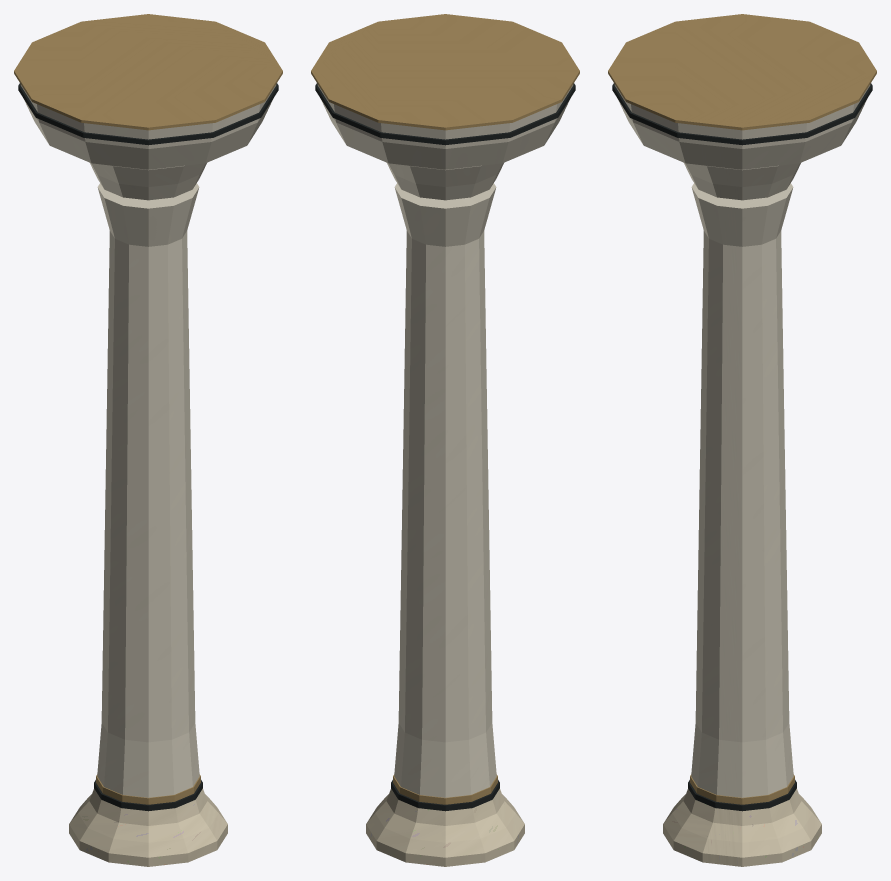
File: AST-STR-001-H826.glb
3 renders of one model, left to right at view 1: azimuth 30°, elevation 25°; view 2: azimuth 150°, elevation 25°; view 3: azimuth 270°, elevation 25°, orthographic.
Visible parts, largest first — view 1: STR_TaperedShaft, STR_CeilingBearing, STR_Capital, STR_StoneFoot, STR_CapitalShadow, STR_LowerMetalBand, STR_BaseReveal; view 2: STR_TaperedShaft, STR_CeilingBearing, STR_Capital, STR_StoneFoot, STR_CapitalShadow, STR_LowerMetalBand, STR_BaseReveal; view 3: STR_TaperedShaft, STR_CeilingBearing, STR_Capital, STR_StoneFoot, STR_CapitalShadow, STR_LowerMetalBand, STR_BaseReveal.
Boxes of the visible parts, <box> form: STR_TaperedShaft: <box>97,183,199,797</box>; STR_CeilingBearing: <box>14,14,282,130</box>; STR_Capital: <box>20,84,276,200</box>; STR_StoneFoot: <box>69,788,227,866</box>; STR_CapitalShadow: <box>18,83,278,145</box>; STR_LowerMetalBand: <box>96,774,200,804</box>; STR_BaseReveal: <box>94,780,202,811</box>; STR_TaperedShaft: <box>394,183,496,797</box>; STR_CeilingBearing: <box>311,14,579,130</box>; STR_Capital: <box>317,84,573,200</box>; STR_StoneFoot: <box>366,788,524,866</box>; STR_CapitalShadow: <box>315,83,575,145</box>; STR_LowerMetalBand: <box>393,774,497,804</box>; STR_BaseReveal: <box>391,780,499,811</box>; STR_TaperedShaft: <box>691,183,793,797</box>; STR_CeilingBearing: <box>608,14,876,130</box>; STR_Capital: <box>614,84,870,200</box>; STR_StoneFoot: <box>663,788,821,866</box>; STR_CapitalShadow: <box>612,83,872,145</box>; STR_LowerMetalBand: <box>690,774,794,804</box>; STR_BaseReveal: <box>688,780,796,811</box>.
Bounding box in the file's own units: 2.64 × 8.26 × 2.64.
5 materials, 4 textured.
